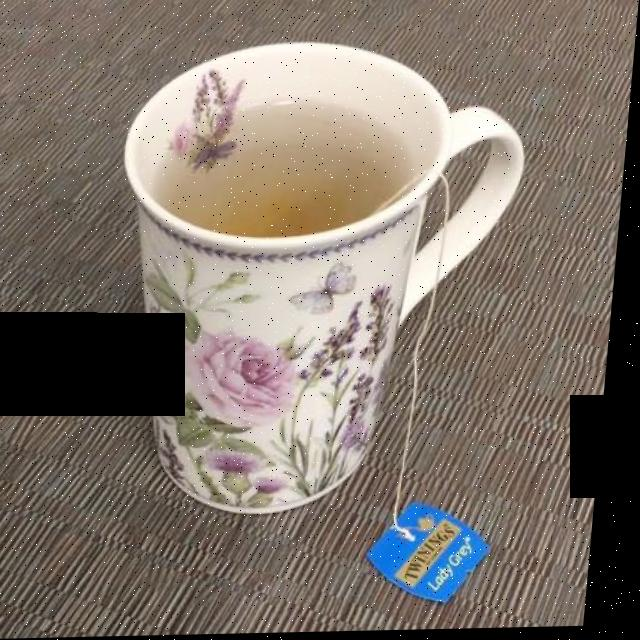tea: (136, 92, 435, 266)
tea-black: (124, 82, 461, 263), (159, 109, 429, 266), (147, 95, 435, 239), (176, 103, 400, 279), (178, 118, 412, 265)
